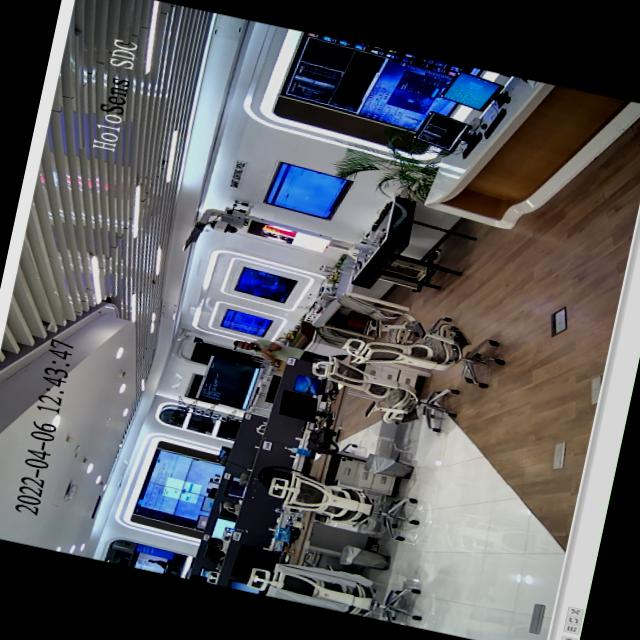long weapon: (246, 340, 266, 352)
